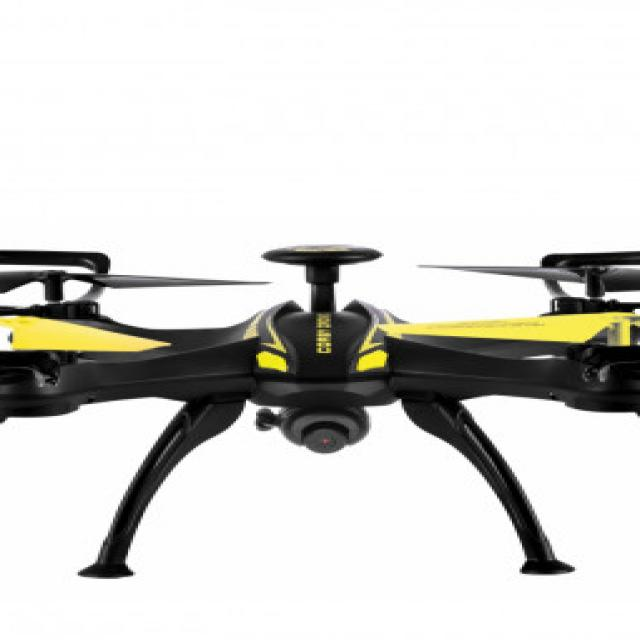drone: (0, 224, 640, 487)
